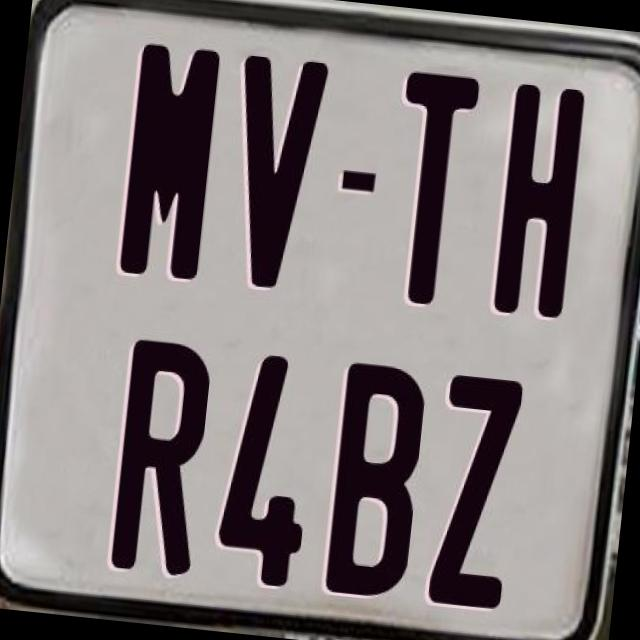4: (214, 350, 322, 594)
B: (322, 358, 426, 597)
H: (492, 82, 592, 326)
M: (115, 42, 225, 288)
R: (110, 336, 216, 575)
T: (382, 67, 478, 310)
V: (218, 55, 332, 296)
Z: (426, 369, 524, 607)
